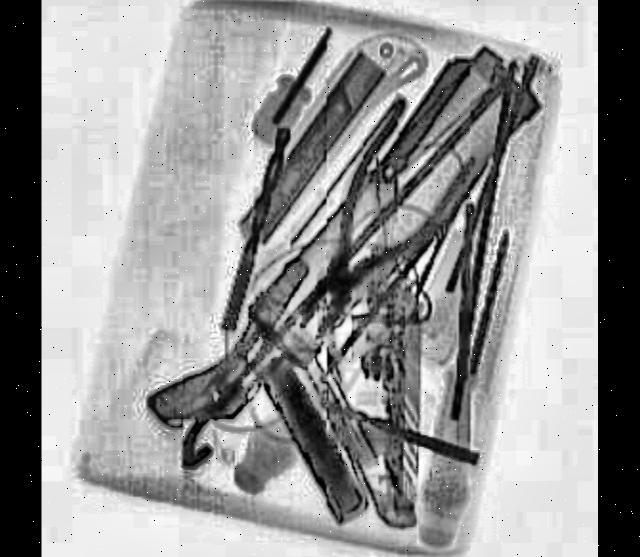Pliers: (269, 82, 478, 368)
